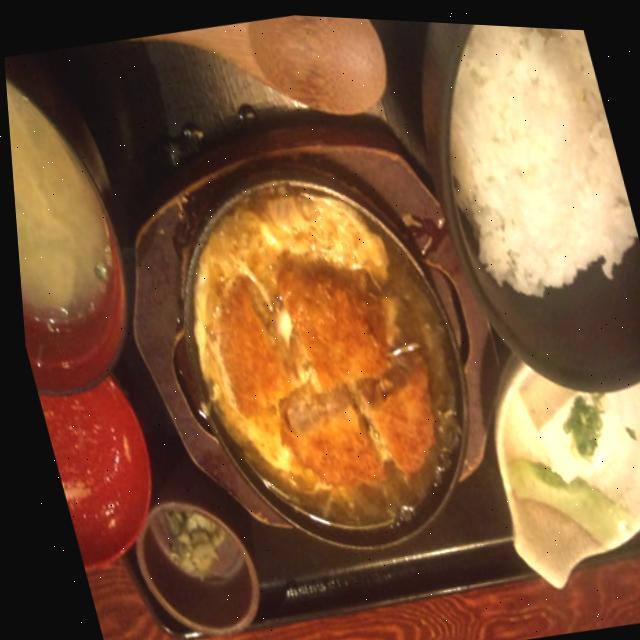汤锅炖物: (3, 53, 156, 386)
米饭主食: (404, 16, 640, 324)
豆腐料理: (491, 356, 640, 520)
